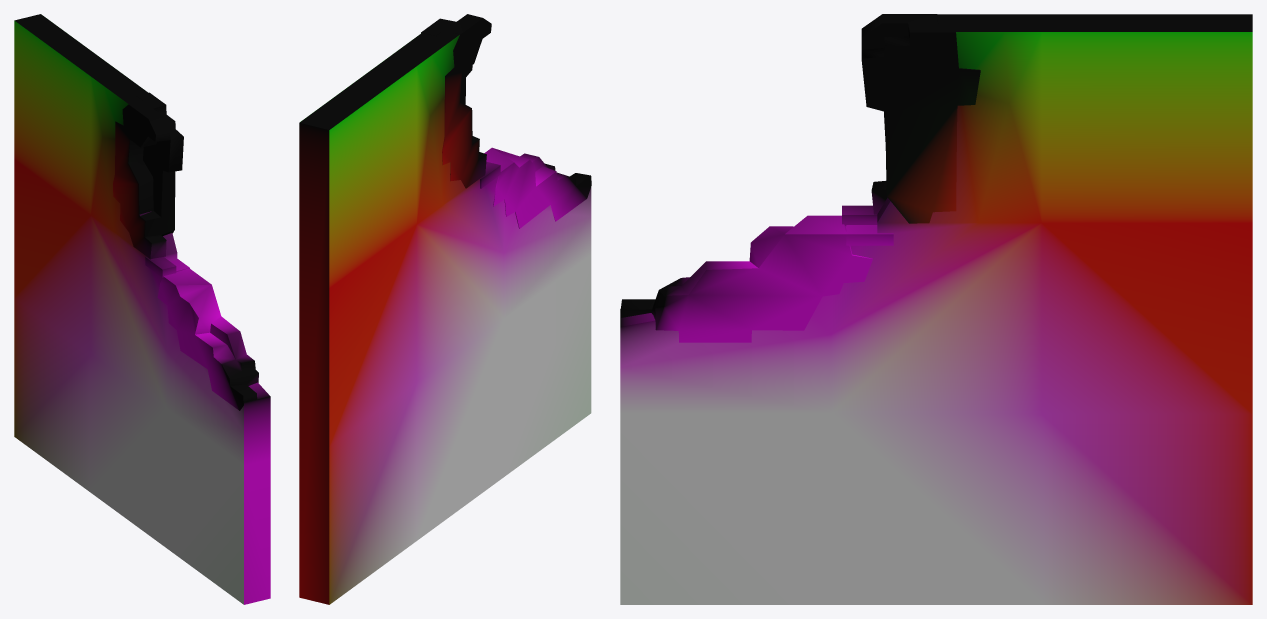
The model's file is DBK_Brick_90_B.fbx.
3 views of the same model, side by side, from view 1: azimuth 30°, elevation 25°; view 2: azimuth 150°, elevation 25°; view 3: azimuth 270°, elevation 25° (orthographic). The views are drawn at different scales.
Parts seen in each view (by area): view 1: DBK_Brick_90_B; view 2: DBK_Brick_90_B; view 3: DBK_Brick_90_B.
Boxes of the visible parts, bbox=[...] form: DBK_Brick_90_B: bbox=[14, 14, 270, 604]; DBK_Brick_90_B: bbox=[299, 14, 591, 604]; DBK_Brick_90_B: bbox=[620, 14, 1252, 604].
Bounding box in the file's own units: 21.98 × 300 × 300.
